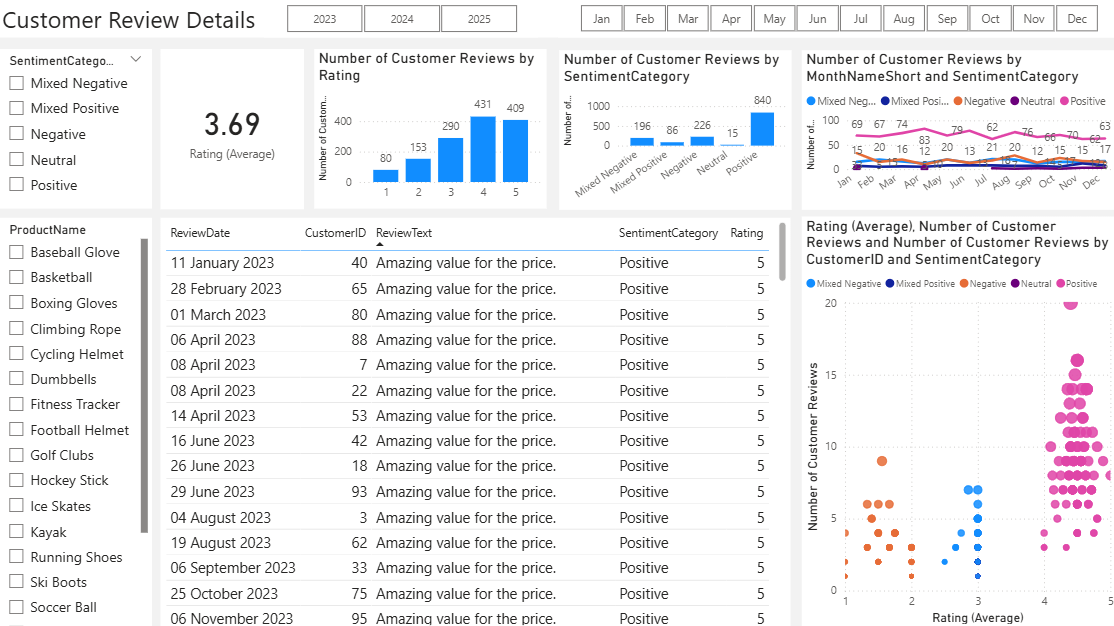

This screenshot's page, from the dashboard's own definition file:
{"tool":"powerbi","page":{"name":"Customer Review Details","canvas":[1280,720],"ordinal":3},"visuals":[{"type":"textbox","box":[0,0,1280.3,44],"z":0},{"type":"slicer","fields":{"Values":["dim_products.ProductName"]},"box":[0,249.5,176.1,470.8],"z":1000},{"type":"slicer","fields":{"Values":["Calendar.MonthNameShort"]},"box":[639.5,0,640.8,44],"z":2000},{"type":"slicer","fields":{"Values":["Calendar.Year"]},"box":[304.3,0,312.9,44.3],"z":3000},{"type":"card","fields":{"Values":["Calculations.Rating (Average)"]},"box":[185.7,57.1,164.3,182.9],"z":4000},{"type":"columnChart","fields":{"Y":["Calculations.Number of Customer Reviews"],"Category":["fact_customer_reviews_with_sentiment.Rating"]},"box":[362,57.5,265.4,182.2],"z":5000},{"type":"columnChart","fields":{"Y":["Calculations.Number of Customer Reviews"],"Category":["fact_customer_reviews_with_sentiment.SentimentCategory"]},"box":[640.8,58.7,265.4,182.2],"z":6000},{"type":"lineChart","fields":{"Category":["Calendar.MonthNameShort"],"Y":["Calculations.Number of Customer Reviews"],"Series":["fact_customer_reviews_with_sentiment.SentimentCategory"]},"box":[918.3,58.7,362,182.2],"z":7000},{"type":"tableEx","fields":{"Values":["fact_customer_reviews_with_sentiment.ReviewDate","fact_customer_reviews_with_sentiment.CustomerID","fact_customer_reviews_with_sentiment.ReviewText","fact_customer_reviews_with_sentiment.SentimentCategory","fact_customer_reviews_with_sentiment.Rating"]},"box":[185.9,249.5,720.2,470.8],"z":8000},{"type":"scatterChart","fields":{"X":["Calculations.Rating (Average)"],"Category":["dim_customers.CustomerID"],"Y":["Calculations.Number of Customer Reviews"],"Series":["fact_customer_reviews_with_sentiment.SentimentCategory"],"Size":["Calculations.Number of Customer Reviews"]},"box":[918,249,362,471],"z":9000},{"type":"slicer","fields":{"Values":["fact_customer_reviews_with_sentiment.SentimentCategory"]},"box":[0,57.5,176.1,182.2],"z":9001}]}

Visuals, with their boxes in screenshot pixels (x1, y1, x2, y2), scaled from the page's 1280x720 canvas onto the 1114x626 screenshot:
textbox: (x1=0, y1=0, x2=1113, y2=38)
slicer - dim_products.ProductName: (x1=0, y1=217, x2=153, y2=625)
slicer - Calendar.MonthNameShort: (x1=557, y1=0, x2=1113, y2=38)
slicer - Calendar.Year: (x1=265, y1=0, x2=537, y2=39)
card - Calculations.Rating (Average): (x1=162, y1=50, x2=305, y2=209)
columnChart - Calculations.Number of Customer Reviews x fact_customer_reviews_with_sentiment.Rating: (x1=315, y1=50, x2=546, y2=208)
columnChart - Calculations.Number of Customer Reviews x fact_customer_reviews_with_sentiment.SentimentCategory: (x1=558, y1=51, x2=789, y2=209)
lineChart - Calendar.MonthNameShort x Calculations.Number of Customer Reviews: (x1=799, y1=51, x2=1113, y2=209)
tableEx - fact_customer_reviews_with_sentiment.ReviewDate x fact_customer_reviews_with_sentiment.CustomerID: (x1=162, y1=217, x2=789, y2=625)
scatterChart - Calculations.Rating (Average) x dim_customers.CustomerID: (x1=799, y1=216, x2=1113, y2=625)
slicer - fact_customer_reviews_with_sentiment.SentimentCategory: (x1=0, y1=50, x2=153, y2=208)
